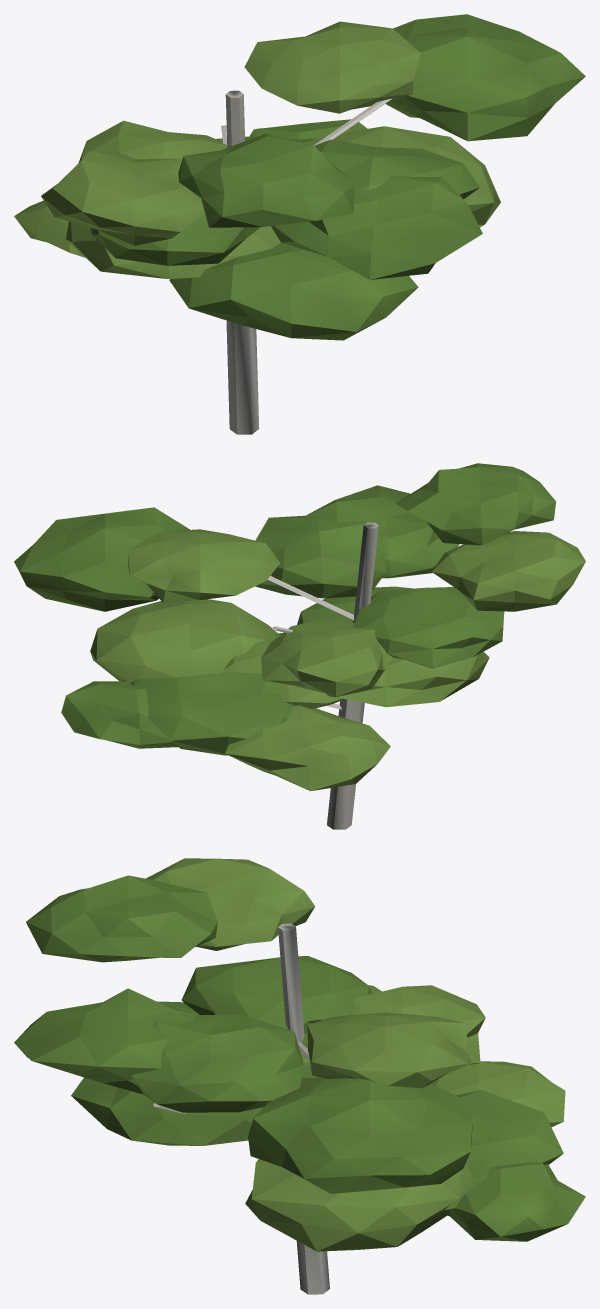
The model's file is veg_bjork_1.glb.
3 renders of one model, top to bottom at view 1: azimuth 30°, elevation 25°; view 2: azimuth 150°, elevation 25°; view 3: azimuth 270°, elevation 25°, orthographic. The views are drawn at different scales.
Visible parts, largest first — view 1: geometry_0; view 2: geometry_0; view 3: geometry_0.
Boxes of the visible parts, x1=… form: geometry_0: x1=14, y1=14, x2=585, y2=434; geometry_0: x1=14, y1=463, x2=585, y2=829; geometry_0: x1=14, y1=858, x2=585, y2=1294.
Bounding box in the file's own units: 1.65 × 1 × 1.45.
